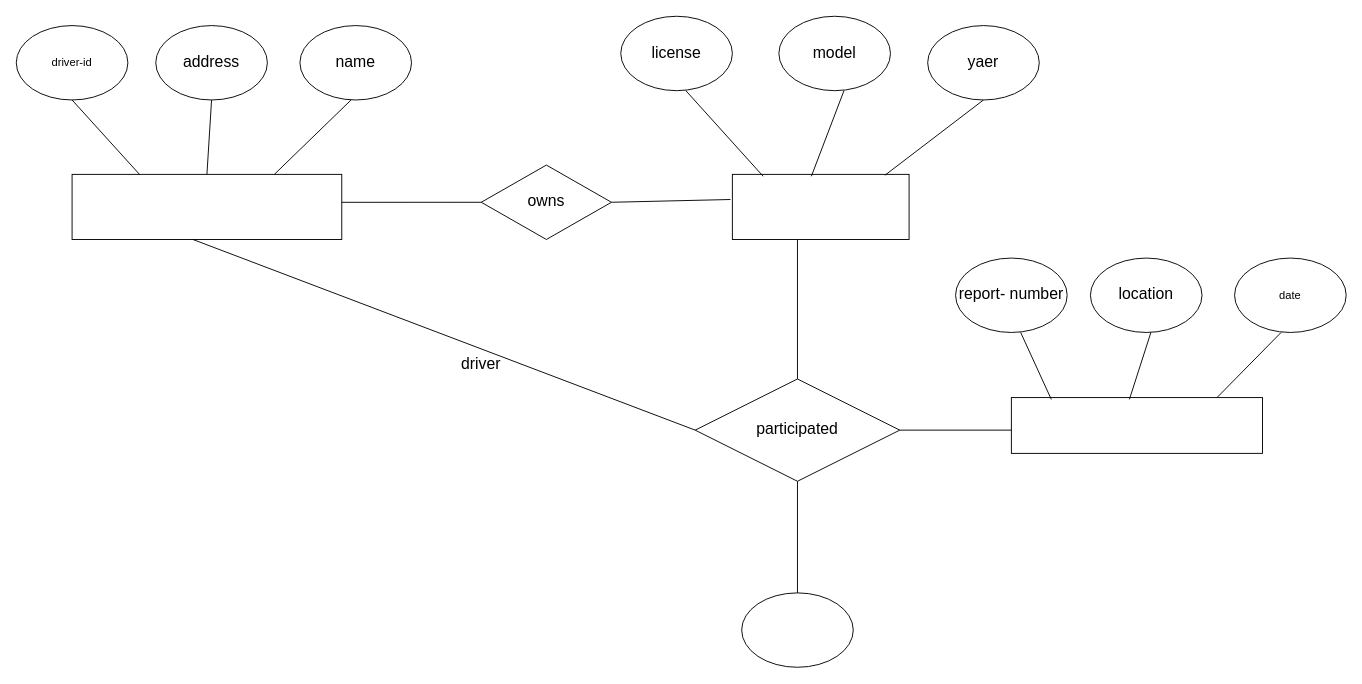
The diagram is 1362 pixels wide and 684 high, and some of its shapes have lost their labels. The shapes that lost their labels are listed below. From the top down, each one's centre as x and y in pixels, then its label:
At [206,206]: "person".
At [820,206]: "car".
At [1136,425]: "accident".
At [797,629]: "damage-amount".
